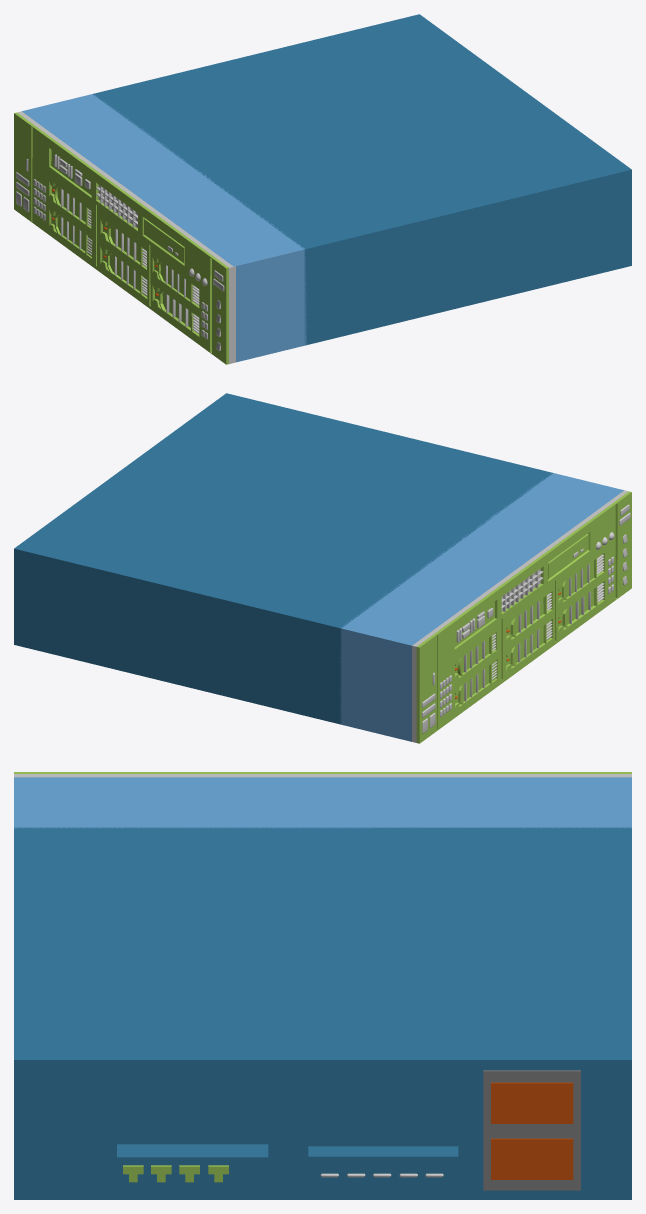
Rendered from router6.glb.
3 views of the same model, one above another, from view 1: azimuth 30°, elevation 25°; view 2: azimuth 150°, elevation 25°; view 3: azimuth 270°, elevation 25° (orthographic). The views are drawn at different scales.
Parts seen in each view (by area): view 1: 立方体_1_2.137, 立方体_2.138, 立方体_54.5, 立方体_5_2.136; view 2: 立方体_1_2.137, 立方体_2.138, 立方体_54.5, 立方体_5_2.136; view 3: 立方体_1_2.137, 立方体_2.138, 立方体_19_8.142, 立方体_21_8.140, 立方体_20_8.141, 立方体_5_2.136, 立方体_54.5.
Part boxes in pixels (left/top/right/bottom): 立方体_1_2.137: left=93, top=14, right=631, bottom=345; 立方体_2.138: left=22, top=94, right=306, bottom=362; 立方体_54.5: left=14, top=112, right=228, bottom=364; 立方体_5_2.136: left=17, top=111, right=235, bottom=363; 立方体_1_2.137: left=14, top=393, right=553, bottom=724; 立方体_2.138: left=339, top=473, right=623, bottom=741; 立方体_54.5: left=416, top=491, right=631, bottom=743; 立方体_5_2.136: left=412, top=490, right=628, bottom=742; 立方体_1_2.137: left=14, top=827, right=631, bottom=1199; 立方体_2.138: left=14, top=777, right=631, bottom=828; 立方体_19_8.142: left=483, top=1070, right=580, bottom=1190; 立方体_21_8.140: left=491, top=1138, right=573, bottom=1179; 立方体_20_8.141: left=491, top=1082, right=573, bottom=1123; 立方体_5_2.136: left=14, top=774, right=631, bottom=777; 立方体_54.5: left=14, top=772, right=631, bottom=773.
Bounding box in the file's own units: 23.08 × 5.16 × 20.66.
